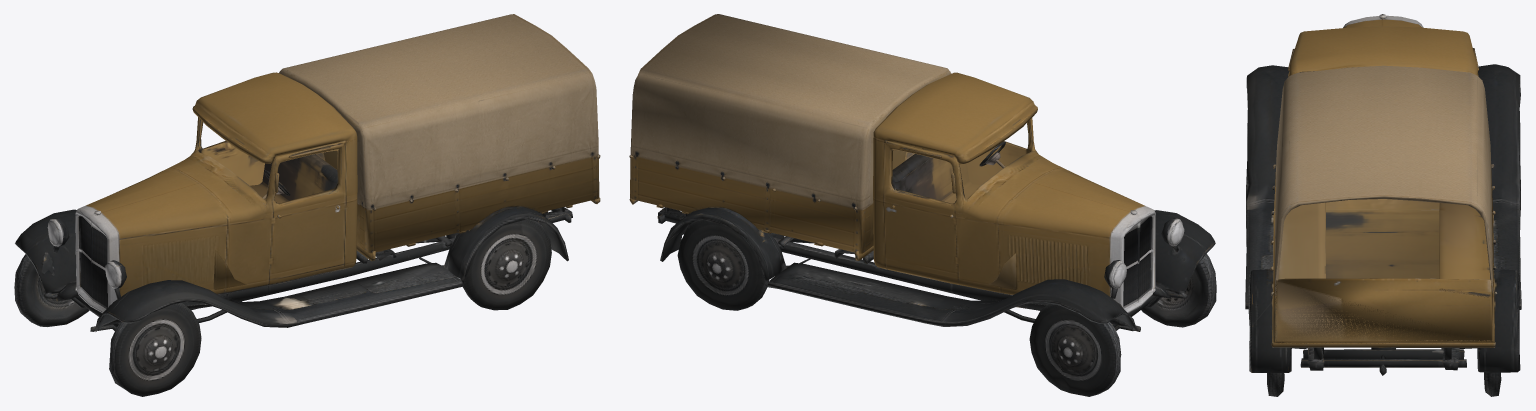
The model's file is truck.glb.
3 renders of one model, left to right at view 1: azimuth 30°, elevation 25°; view 2: azimuth 150°, elevation 25°; view 3: azimuth 270°, elevation 25°, orthographic. The views are drawn at different scales.
Parts seen in each view (by area): view 1: Mesh_0; view 2: Mesh_0; view 3: Mesh_0.
Boxes of the visible parts, left/top/right/bottom form: Mesh_0: left=14, top=14, right=600, bottom=396; Mesh_0: left=629, top=14, right=1216, bottom=396; Mesh_0: left=1245, top=14, right=1521, bottom=396.
Size of the model in its own units: 1 by 0.4248 by 0.4258.
1 material, 1 textured.
